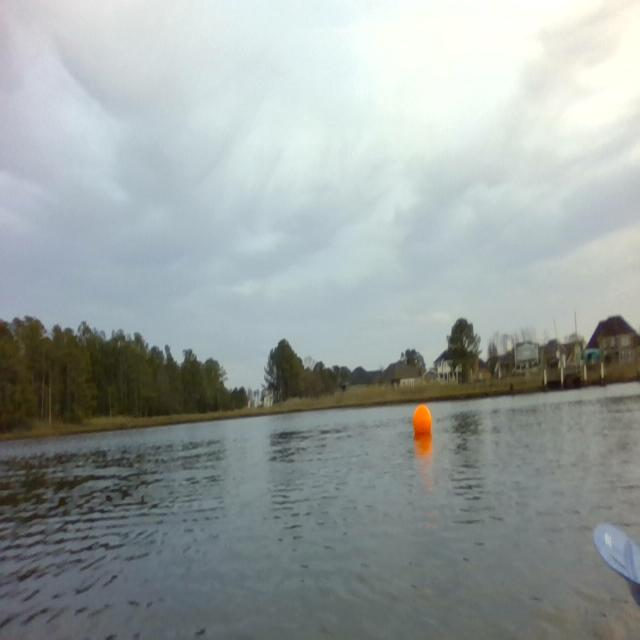Buoy: (411, 398, 433, 444)
